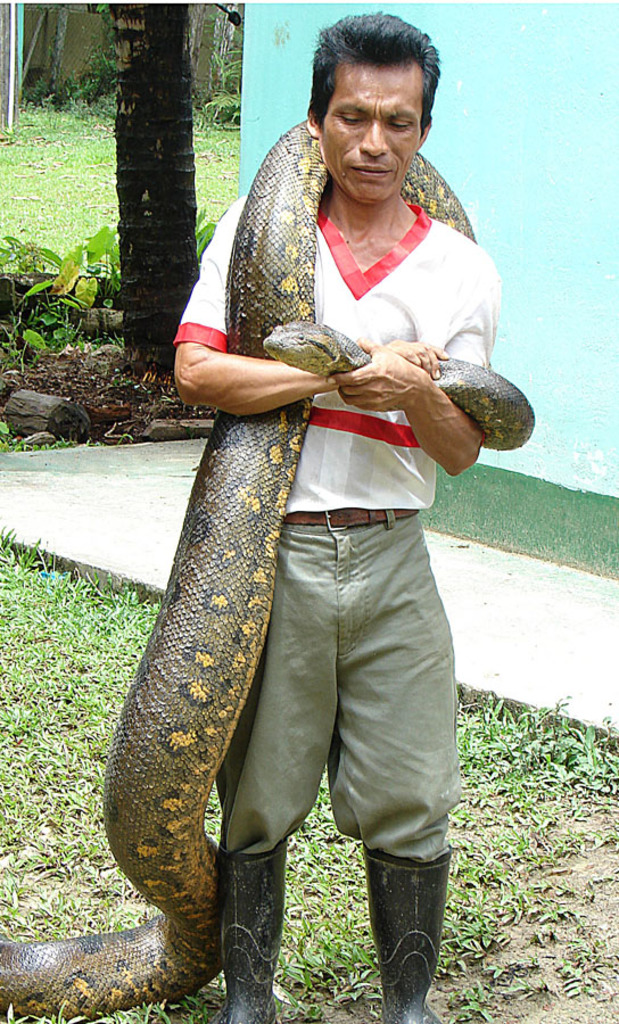Person: (173, 10, 500, 1024)
